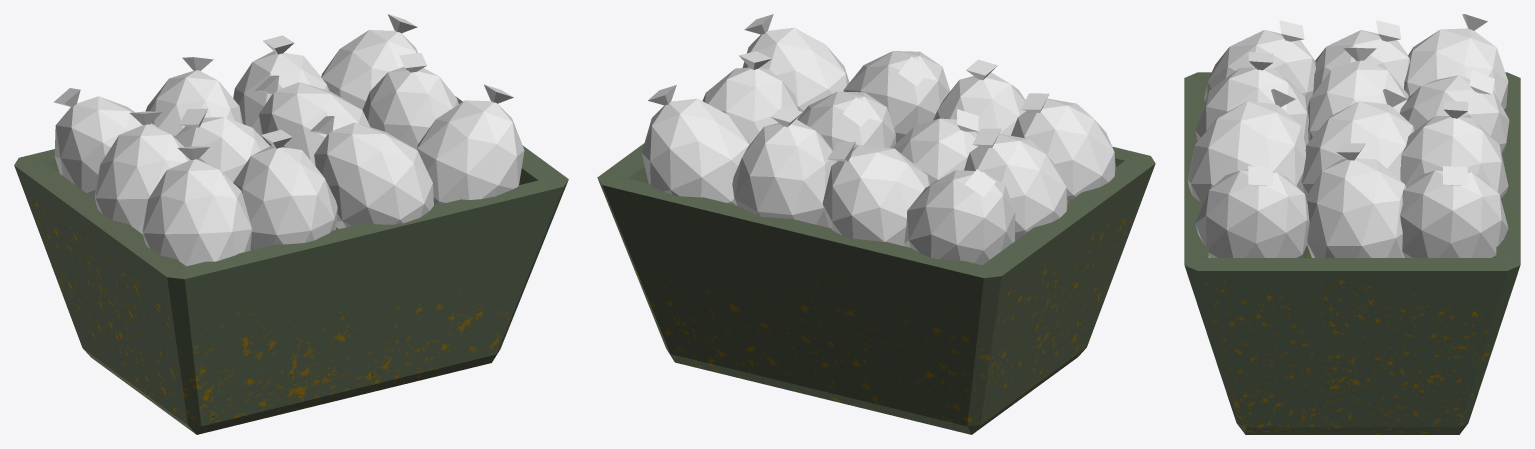
File: ContenedorBasura.fbx
The picture shows the model from 3 angles, left to right: view 1: azimuth 30°, elevation 25°; view 2: azimuth 150°, elevation 25°; view 3: azimuth 270°, elevation 25°; orthographic projection.
Visible parts, largest first — view 1: ChamferBox001, GeoSphere011, GeoSphere012, GeoSphere009, GeoSphere010, GeoSphere003, GeoSphere001, GeoSphere004, GeoSphere006, GeoSphere002, GeoSphere007, GeoSphere008 (+1 smaller); view 2: ChamferBox001, GeoSphere002, GeoSphere005, GeoSphere004, GeoSphere007, GeoSphere012, GeoSphere003, GeoSphere011, GeoSphere009, GeoSphere001, GeoSphere006, GeoSphere010 (+1 smaller); view 3: ChamferBox001, GeoSphere001, GeoSphere009, GeoSphere002, GeoSphere011, GeoSphere006, GeoSphere005, GeoSphere004, GeoSphere007, GeoSphere010, GeoSphere008, GeoSphere012 (+1 smaller).
Part boxes in pixels (x1=…): ChamferBox001: x1=14, y1=96, x2=568, y2=434; GeoSphere011: x1=310, y1=116, x2=433, y2=228; GeoSphere012: x1=142, y1=146, x2=251, y2=266; GeoSphere009: x1=417, y1=84, x2=524, y2=205; GeoSphere010: x1=233, y1=129, x2=337, y2=250; GeoSphere003: x1=94, y1=111, x2=190, y2=234; GeoSphere001: x1=362, y1=53, x2=458, y2=149; GeoSphere004: x1=54, y1=88, x2=157, y2=199; GeoSphere006: x1=255, y1=75, x2=370, y2=165; GeoSphere002: x1=321, y1=14, x2=417, y2=109; GeoSphere007: x1=145, y1=57, x2=243, y2=137; GeoSphere008: x1=174, y1=108, x2=269, y2=182; ChamferBox001: x1=597, y1=100, x2=1155, y2=434; GeoSphere002: x1=641, y1=85, x2=749, y2=204; GeoSphere005: x1=732, y1=106, x2=837, y2=227; GeoSphere004: x1=904, y1=169, x2=1015, y2=264; GeoSphere007: x1=822, y1=141, x2=930, y2=246; GeoSphere012: x1=1011, y1=93, x2=1115, y2=202; GeoSphere003: x1=964, y1=128, x2=1067, y2=240; GeoSphere011: x1=843, y1=51, x2=950, y2=143; GeoSphere009: x1=742, y1=14, x2=849, y2=115; GeoSphere001: x1=702, y1=51, x2=799, y2=144; GeoSphere006: x1=797, y1=91, x2=895, y2=161; GeoSphere010: x1=933, y1=59, x2=1025, y2=135; ChamferBox001: x1=1184, y1=72, x2=1520, y2=434; GeoSphere001: x1=1306, y1=143, x2=1406, y2=257; GeoSphere009: x1=1195, y1=166, x2=1309, y2=257; GeoSphere002: x1=1400, y1=166, x2=1508, y2=257; GeoSphere011: x1=1187, y1=89, x2=1305, y2=203; GeoSphere006: x1=1301, y1=89, x2=1414, y2=196; GeoSphere005: x1=1400, y1=100, x2=1508, y2=198; GeoSphere004: x1=1404, y1=14, x2=1508, y2=109; GeoSphere007: x1=1399, y1=70, x2=1509, y2=153; GeoSphere010: x1=1195, y1=52, x2=1308, y2=146; GeoSphere008: x1=1307, y1=48, x2=1408, y2=141; GeoSphere012: x1=1204, y1=20, x2=1315, y2=107.
Bounding box in the file's own units: 229 × 148 × 163.
